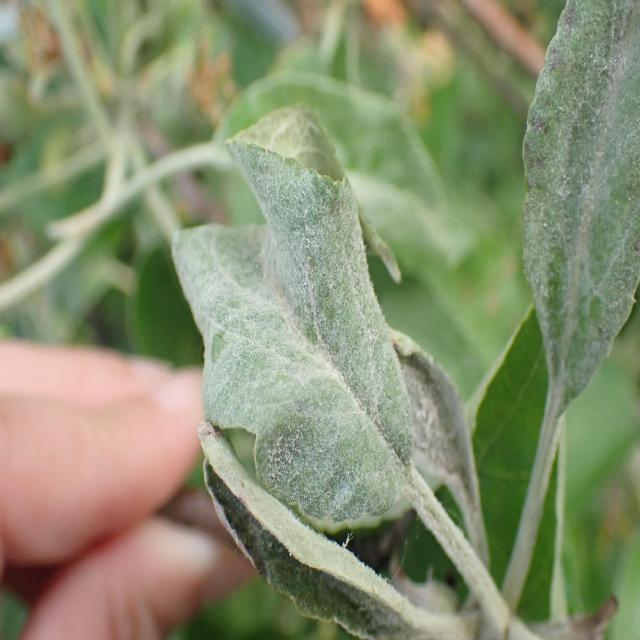Powdery_mildew: (178, 106, 407, 562), (521, 0, 639, 480), (192, 417, 428, 640), (382, 292, 491, 536)
